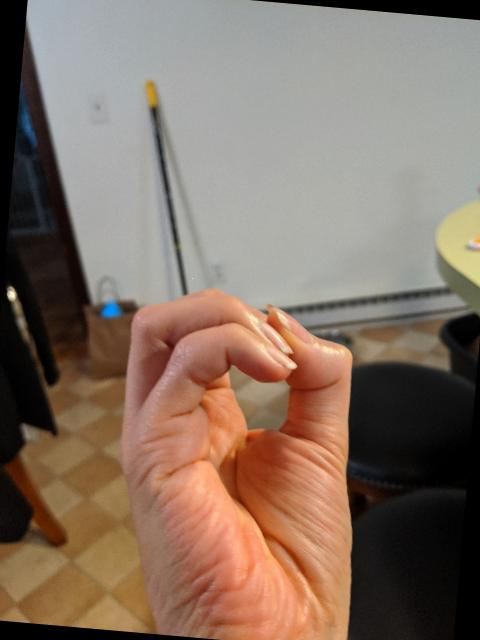O: (98, 277, 387, 640)
